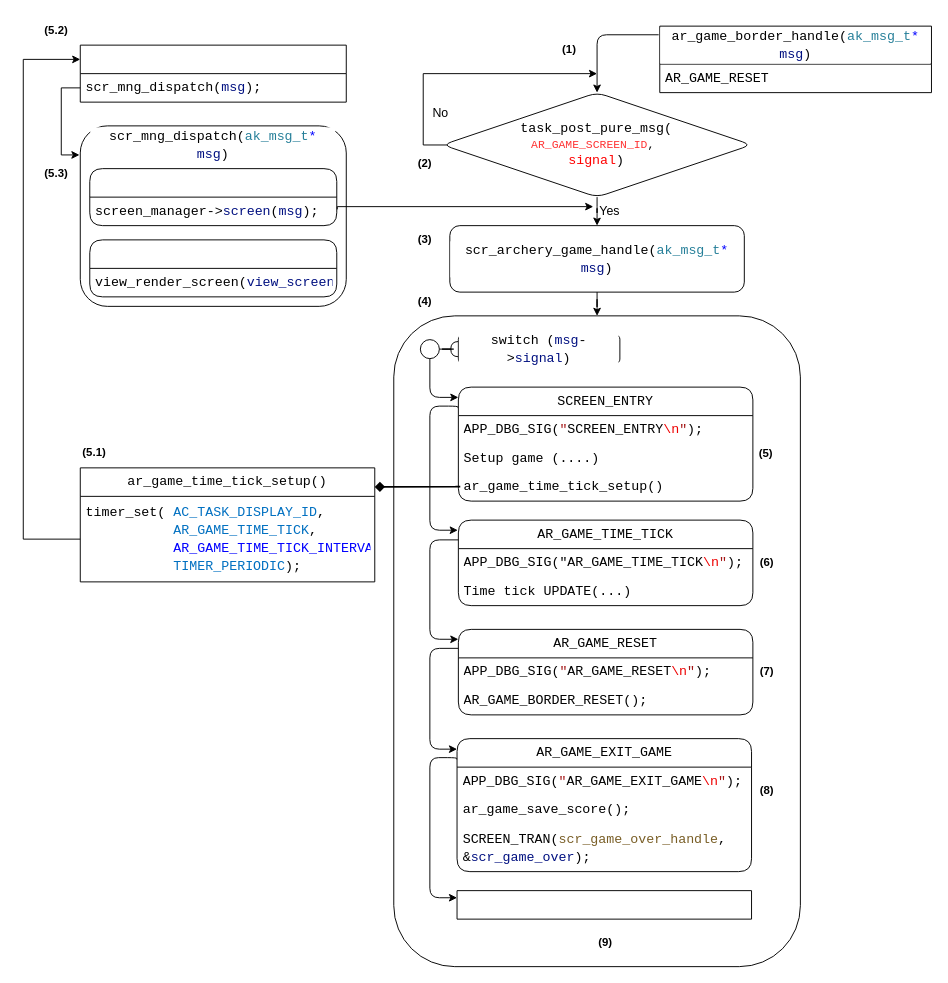
Image size: 948x983. Some labels were removed from this diagram. Each missing label, with the box of its shape:
default: (456, 890, 752, 919)
Signal: (89, 168, 337, 226)
task_display( ak_msg_t * msg ): (79, 44, 346, 102)
Update_screen: (89, 239, 337, 297)
